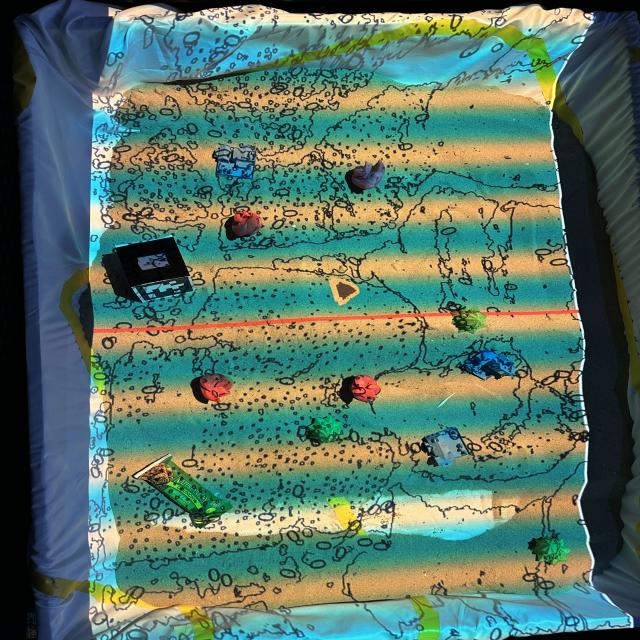fire: (350, 160, 386, 191), (198, 372, 234, 402), (351, 373, 382, 403), (231, 210, 263, 239)
house: (422, 427, 469, 467), (463, 348, 514, 382), (214, 143, 258, 181)
tree: (534, 535, 571, 566), (309, 415, 343, 444), (454, 307, 486, 335)
